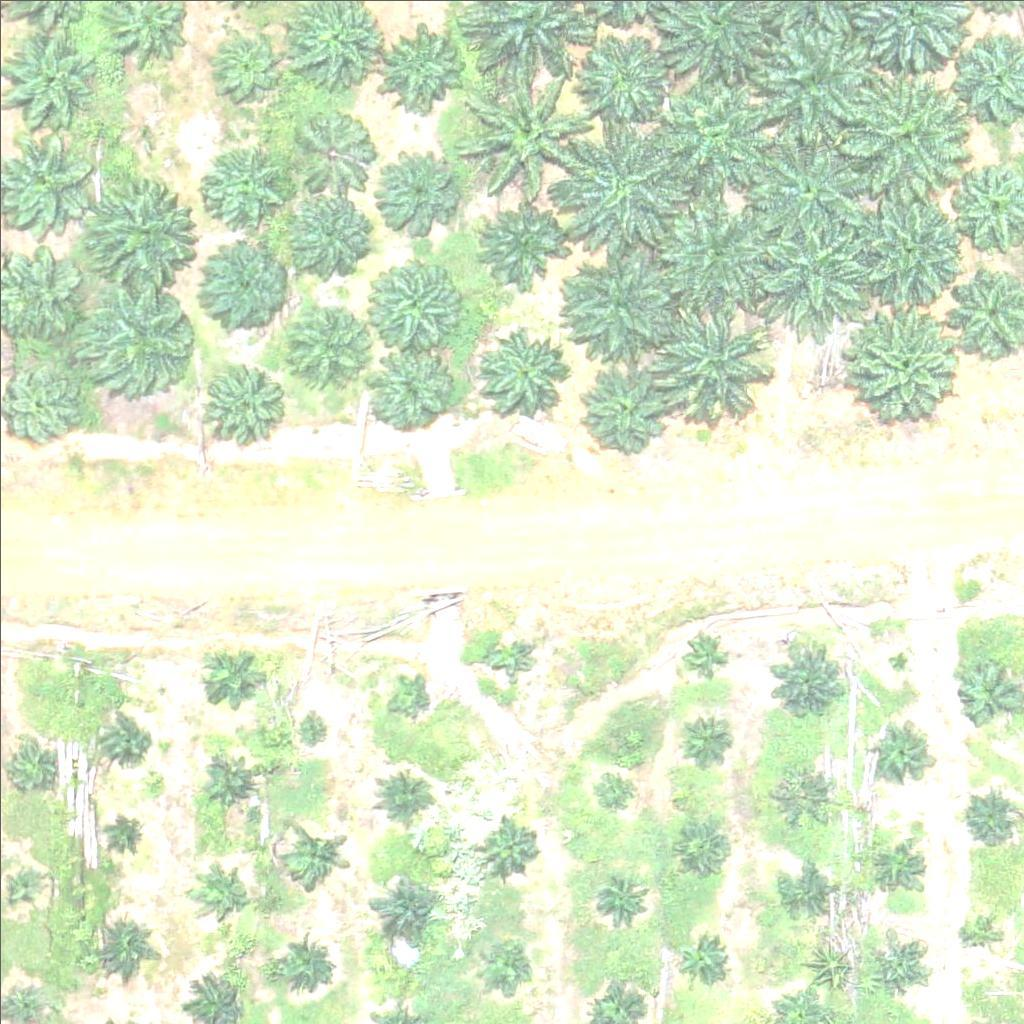Kelapa_Sawit: (646, 300, 771, 426), (654, 192, 779, 318), (649, 64, 774, 190), (748, 15, 873, 141), (743, 123, 868, 249), (749, 203, 874, 329), (845, 183, 970, 309), (564, 121, 689, 247), (467, 68, 592, 194), (70, 274, 195, 400), (834, 73, 959, 198), (560, 243, 685, 368), (852, 309, 965, 423), (1, 29, 101, 130), (83, 181, 183, 282), (576, 34, 664, 122), (373, 255, 461, 343), (368, 140, 456, 228), (380, 28, 468, 116), (477, 201, 564, 290), (203, 238, 290, 327), (371, 347, 458, 435), (284, 193, 371, 281), (580, 357, 667, 445), (482, 331, 569, 419), (289, 112, 376, 200), (281, 301, 368, 389), (195, 358, 282, 446), (198, 131, 285, 219), (267, 914, 342, 990), (771, 642, 846, 718), (275, 812, 350, 888), (366, 864, 441, 939), (205, 28, 280, 103), (870, 938, 933, 1001), (584, 869, 647, 932), (869, 719, 932, 782), (197, 648, 260, 711), (370, 758, 433, 821), (198, 753, 261, 816), (478, 810, 541, 873), (89, 916, 151, 979), (771, 760, 833, 823), (682, 934, 732, 985), (678, 821, 728, 872), (378, 672, 428, 723), (484, 630, 534, 681), (585, 763, 635, 814), (782, 864, 832, 914), (202, 874, 252, 924), (483, 941, 533, 991), (683, 711, 733, 761), (878, 841, 928, 891), (101, 711, 151, 761), (1, 744, 51, 794), (677, 630, 727, 680), (4, 861, 42, 899), (295, 707, 333, 745), (958, 907, 996, 945), (110, 810, 147, 848)
